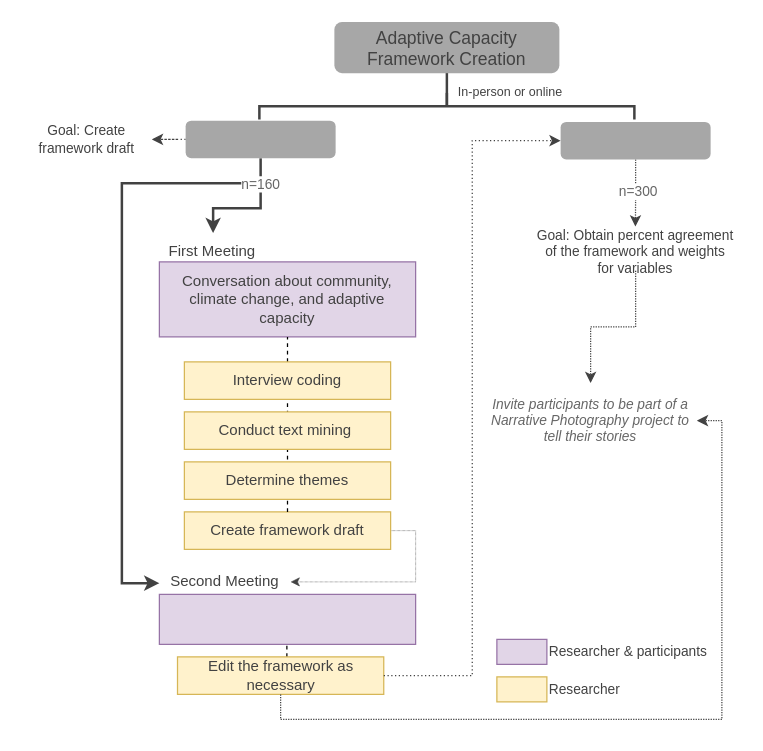
Image size: 763x751. Some labels were removed from this diagram. The centre of each missing label's shape, as x and y in pixels:
Feedback on framework: pixel 287 618
Interviews: pixel 260 139
Survey: pixel 635 140
